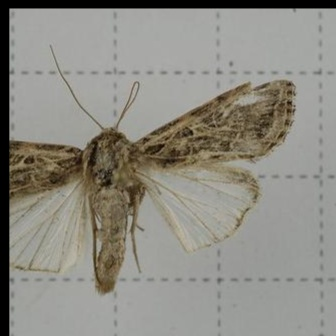Spodoptera litura: (10, 44, 297, 297)
